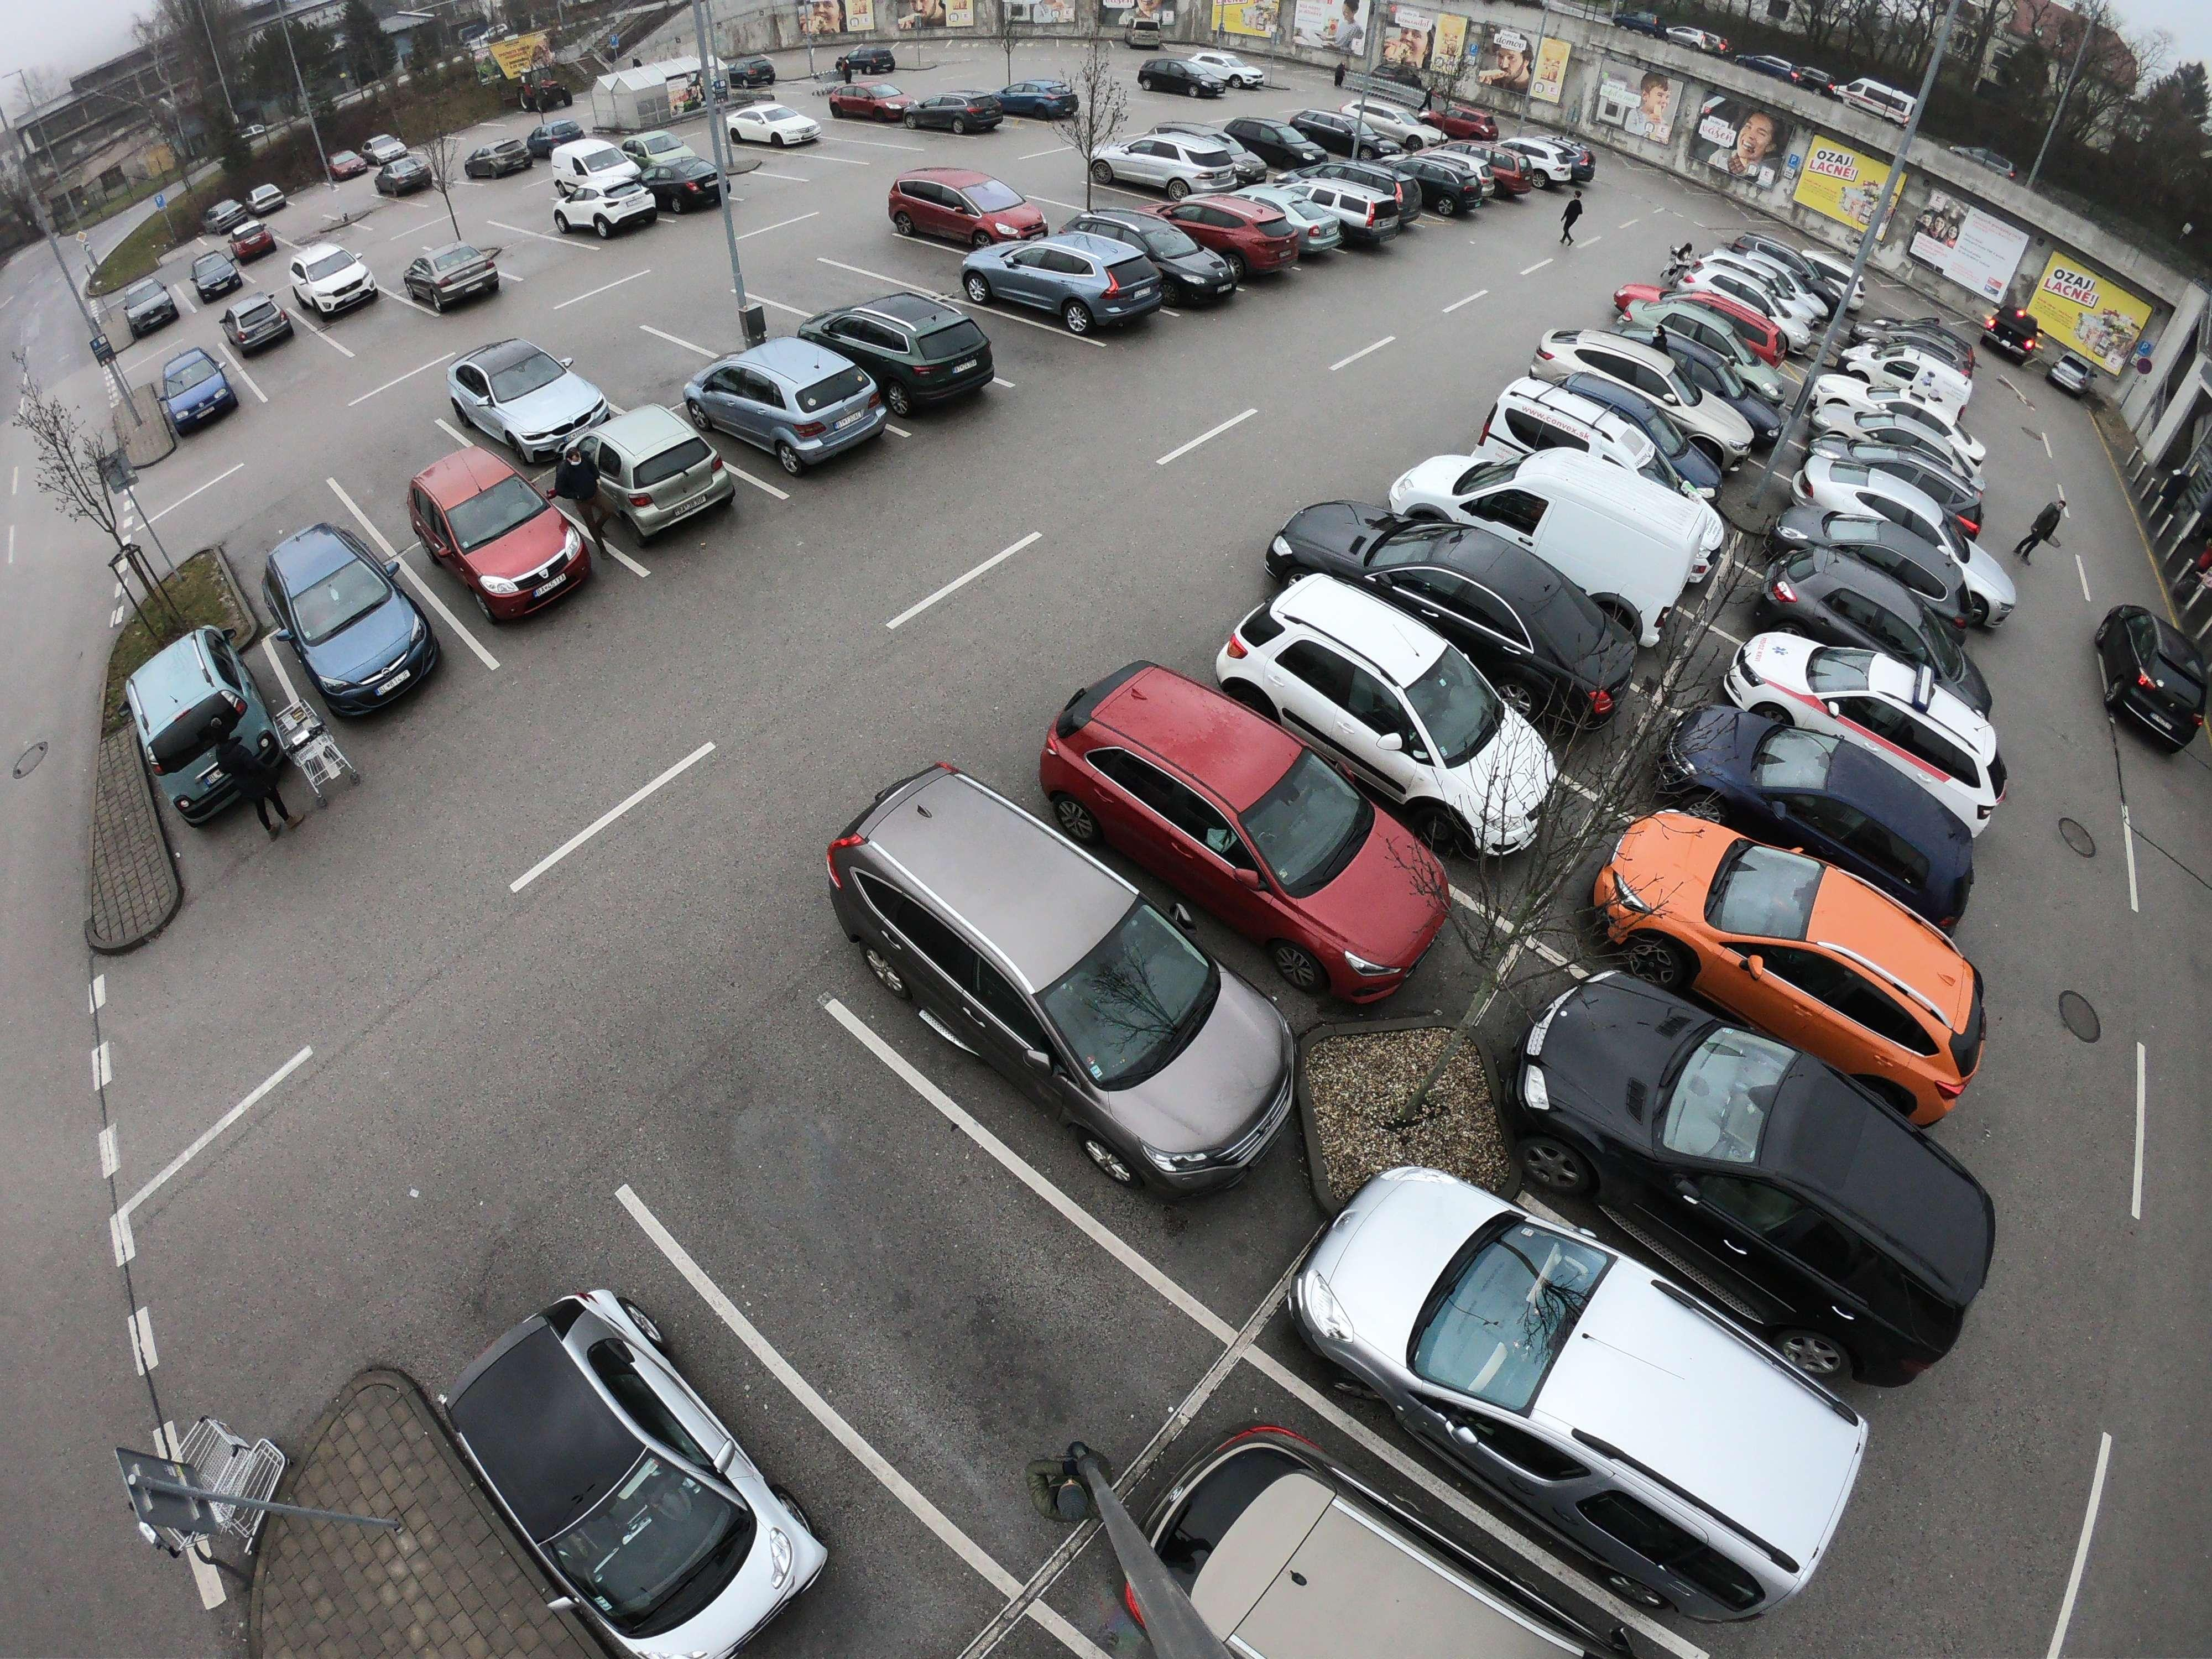empty: (1275, 1150, 1853, 1614), (826, 769, 1280, 1204), (1507, 978, 1996, 1371), (462, 1291, 813, 1647), (1050, 676, 1435, 983), (1125, 1438, 1568, 1659), (1599, 828, 1975, 1075), (1231, 561, 1529, 816), (1310, 507, 1641, 714), (1663, 708, 1984, 894), (1392, 444, 1684, 610), (1721, 634, 1996, 781), (249, 514, 439, 713), (138, 608, 289, 836), (397, 448, 589, 615), (1756, 554, 1980, 676), (690, 338, 881, 472), (570, 406, 740, 538), (1801, 467, 1991, 579), (446, 333, 625, 448), (1534, 329, 1714, 444), (824, 295, 995, 403), (979, 235, 1150, 336), (1629, 300, 1782, 397), (1075, 209, 1221, 298), (1179, 185, 1325, 270), (885, 169, 1035, 251), (550, 157, 660, 246), (1109, 122, 1245, 192), (395, 239, 521, 312), (1282, 162, 1407, 235), (157, 350, 256, 437), (1367, 145, 1484, 213), (287, 244, 381, 315), (1496, 125, 1599, 188), (631, 138, 728, 200), (458, 122, 556, 179), (725, 96, 819, 153), (1231, 118, 1325, 174), (1137, 51, 1242, 99), (232, 289, 308, 349), (118, 288, 186, 343), (381, 145, 441, 197), (192, 254, 251, 301)
occupied: (773, 1169, 1019, 1358), (211, 514, 348, 572), (960, 310, 1049, 373), (359, 444, 439, 504), (867, 237, 941, 296), (246, 340, 326, 392), (500, 230, 587, 277), (603, 343, 685, 389), (697, 295, 775, 342), (775, 260, 848, 303), (1045, 174, 1115, 218), (333, 307, 404, 349)
